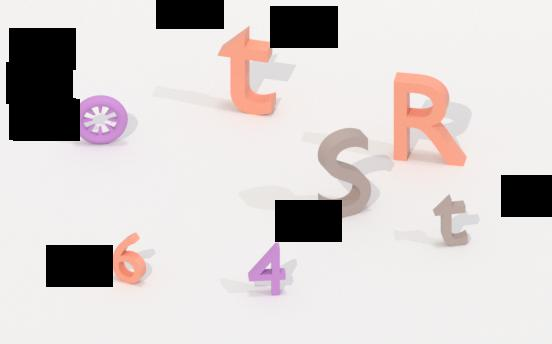4: (243, 239, 292, 299)
6: (111, 231, 152, 286)
R-hoa: (394, 72, 469, 171)
s: (309, 126, 379, 220)
t: (211, 27, 280, 120), (433, 194, 477, 249)
tron: (70, 94, 137, 146)
